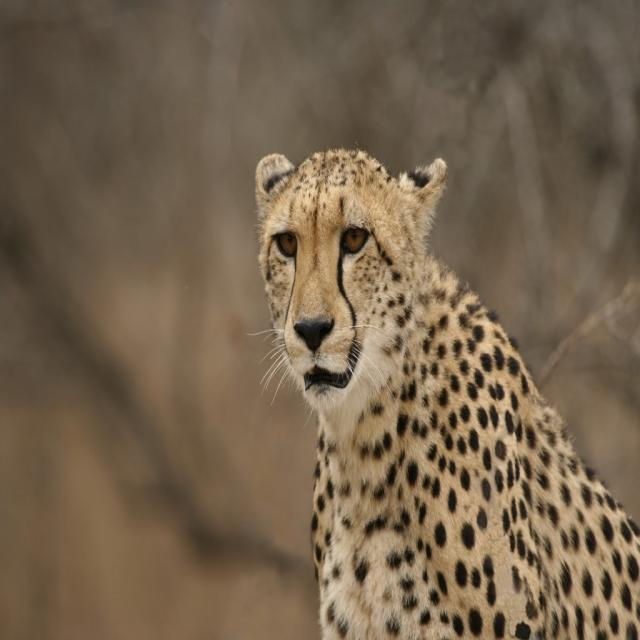Cheetah: (249, 148, 640, 640)
